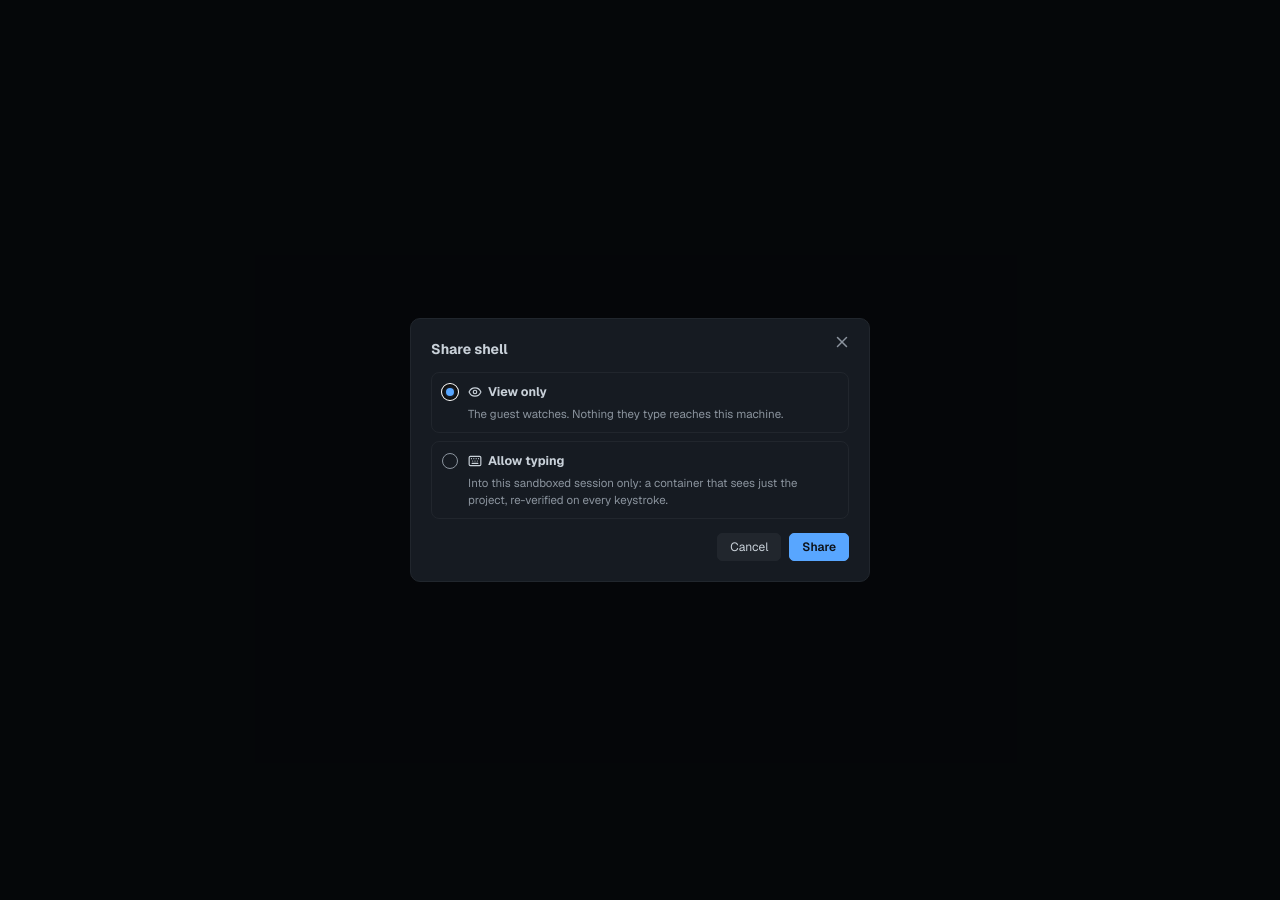
the server refuses without one: the dialog stays open on its choice, says so, and Share works again
The image size is (1280, 900).
Click the button "Share": coordinates (819, 547) [789, 533, 849, 561]
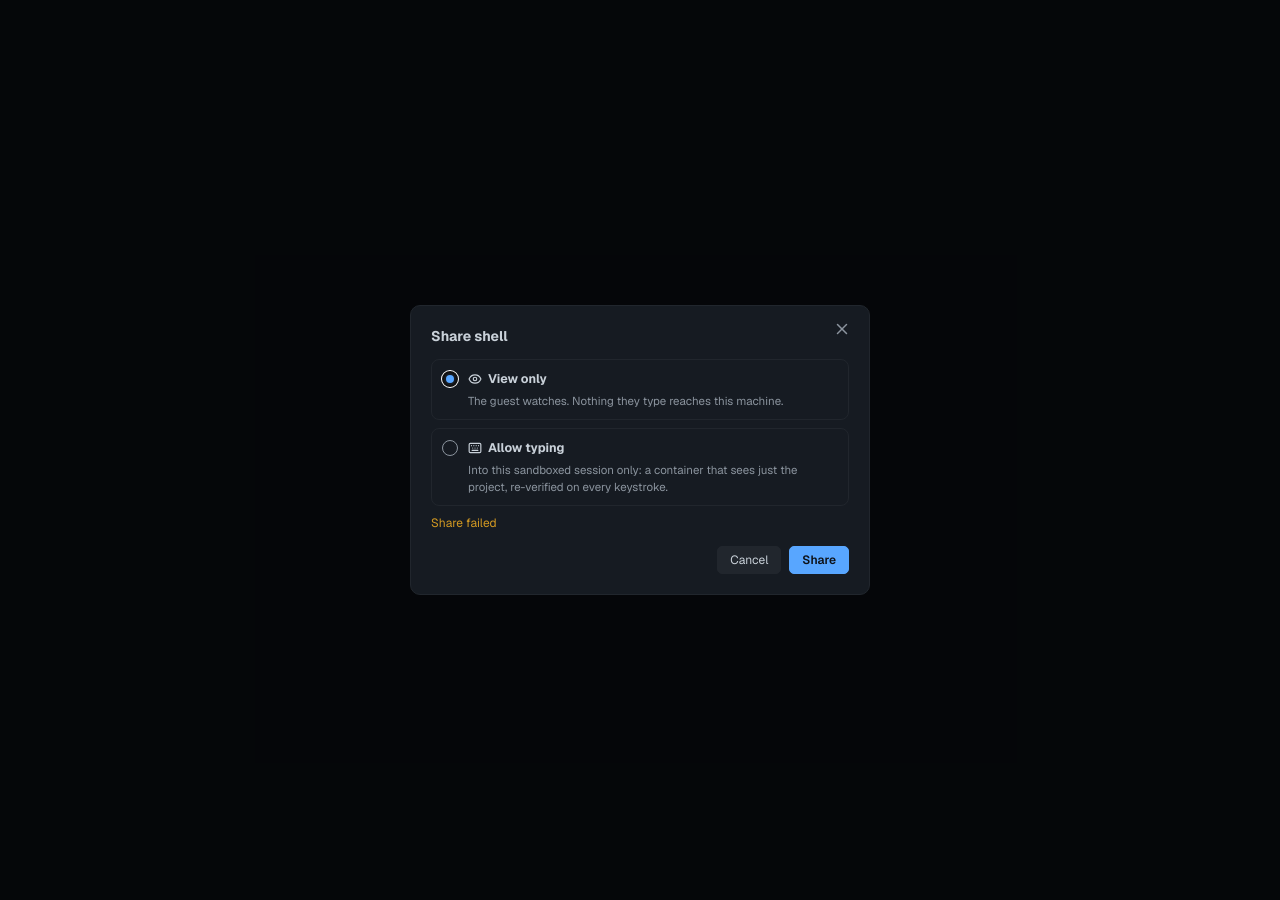
Check: the button "Share" is enabled, box [789, 546, 849, 574]
Check: the message reads "Share failed", box [431, 515, 497, 531]
